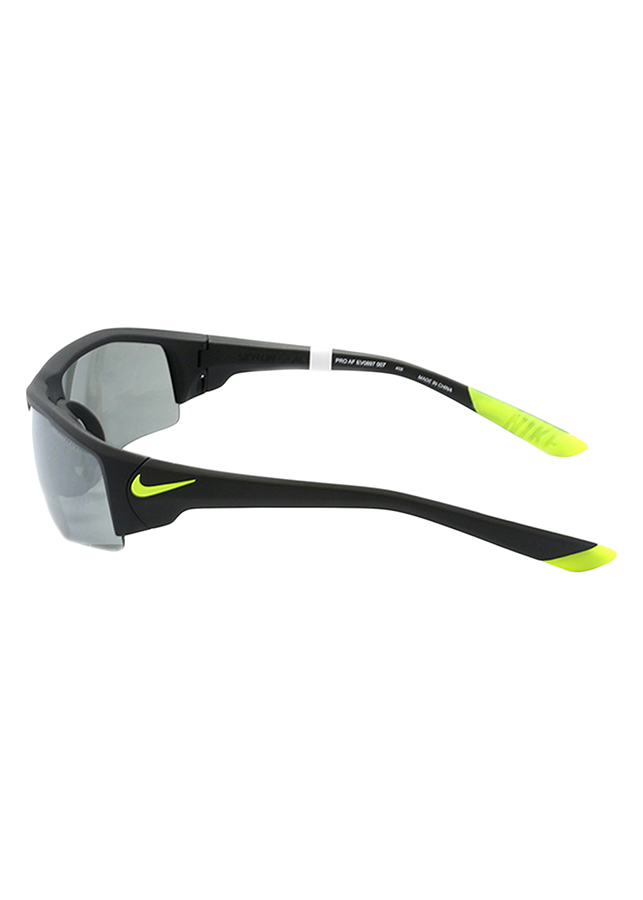Nike: (128, 471, 197, 501)
